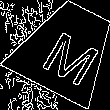M_NE: (32, 16, 101, 82)
